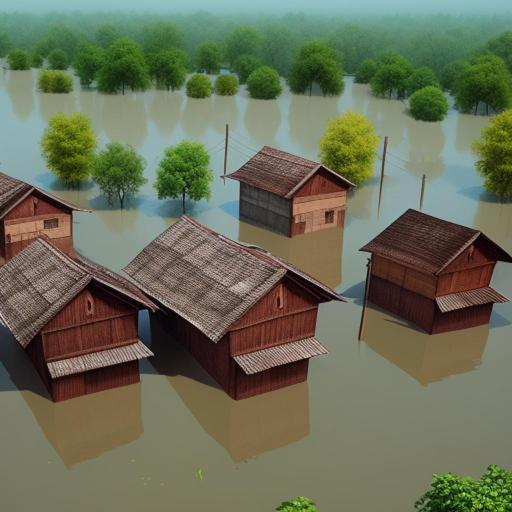flood: (0, 71, 512, 512)
house: (121, 214, 351, 402), (0, 223, 162, 420), (348, 201, 512, 337), (228, 143, 348, 241), (0, 170, 70, 267)
